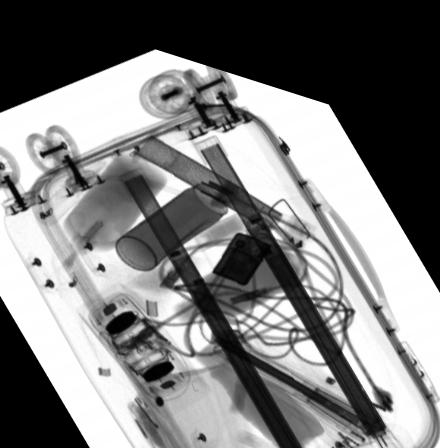Lighter: (211, 217, 271, 270)
